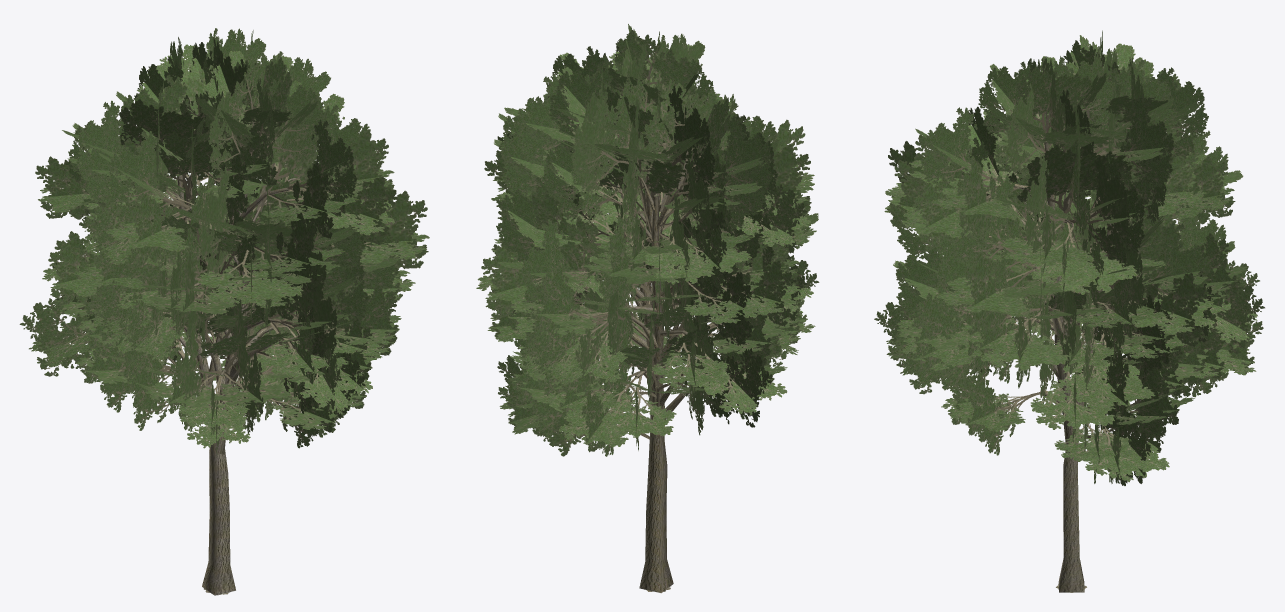
File: TiliaAmericana.glb
3 views of the same model, side by side, from view 1: azimuth 30°, elevation 25°; view 2: azimuth 150°, elevation 25°; view 3: azimuth 270°, elevation 25° (orthographic).
Parts seen in each view (by area): view 1: Basswood__Realistic_LOD3; view 2: Basswood__Realistic_LOD3; view 3: Basswood__Realistic_LOD3.
Part boxes in pixels (x1,y1,x2,y2): Basswood__Realistic_LOD3: (19, 28, 429, 595); Basswood__Realistic_LOD3: (476, 24, 819, 593); Basswood__Realistic_LOD3: (874, 30, 1264, 592).
Bounding box in the file's own units: 20.31 × 30.9 × 20.52.
1 material, 1 textured.
